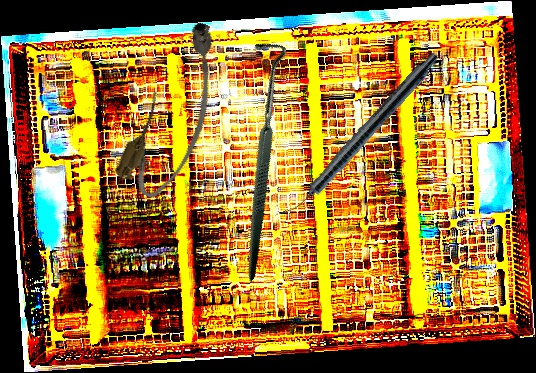Cannula: (110, 15, 244, 206)
Handpiece: (278, 46, 443, 226)
Hook Surgical: (144, 33, 371, 282)
